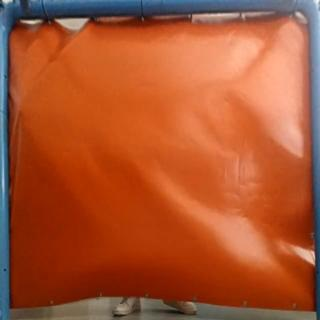Hit-hRxx: (12, 99, 27, 115)
